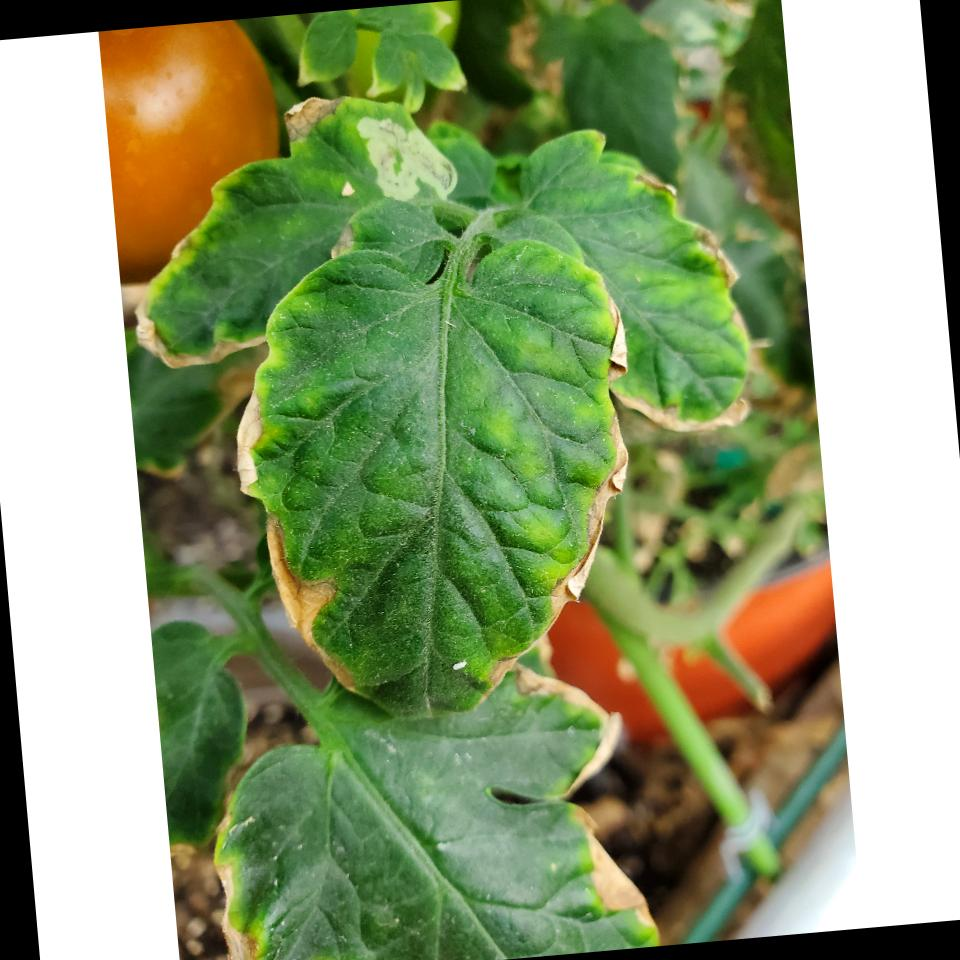tomato_bacterial_blight: (207, 222, 674, 739), (192, 646, 670, 960), (107, 104, 446, 394), (508, 110, 756, 456)
